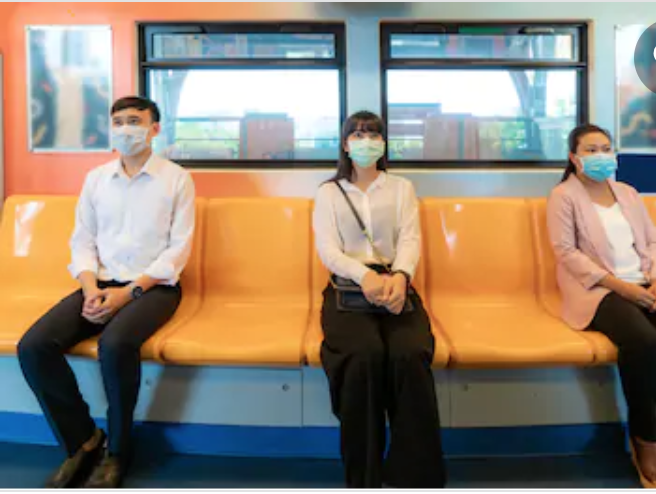Good: (18, 89, 435, 491), (309, 100, 656, 487)
